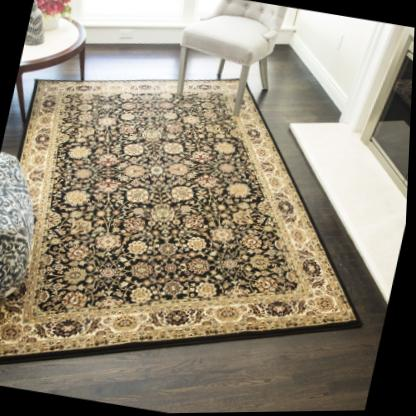Carpet: (0, 77, 363, 361)
